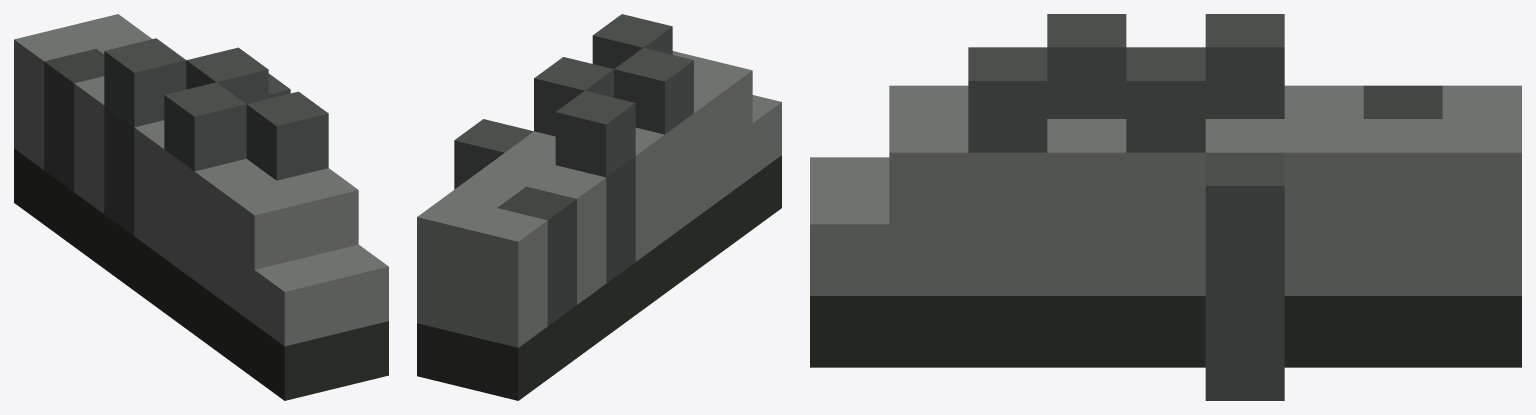
The model's file is Shoe_04_Mesh.fbx.
The picture shows the model from 3 angles, left to right: view 1: azimuth 30°, elevation 25°; view 2: azimuth 150°, elevation 25°; view 3: azimuth 270°, elevation 25°; orthographic projection. The views are drawn at different scales.
Parts seen in each view (by area): view 1: Shoe_04_Mesh; view 2: Shoe_04_Mesh; view 3: Shoe_04_Mesh.
Part boxes in pixels (box(x1,y1,x2,y2)): Shoe_04_Mesh: box(14, 14, 388, 400); Shoe_04_Mesh: box(417, 14, 781, 400); Shoe_04_Mesh: box(810, 14, 1521, 400).
Bounding box in the file's own units: 0.3 × 0.4 × 0.9.
Materials: 1 (1 with a texture image).
